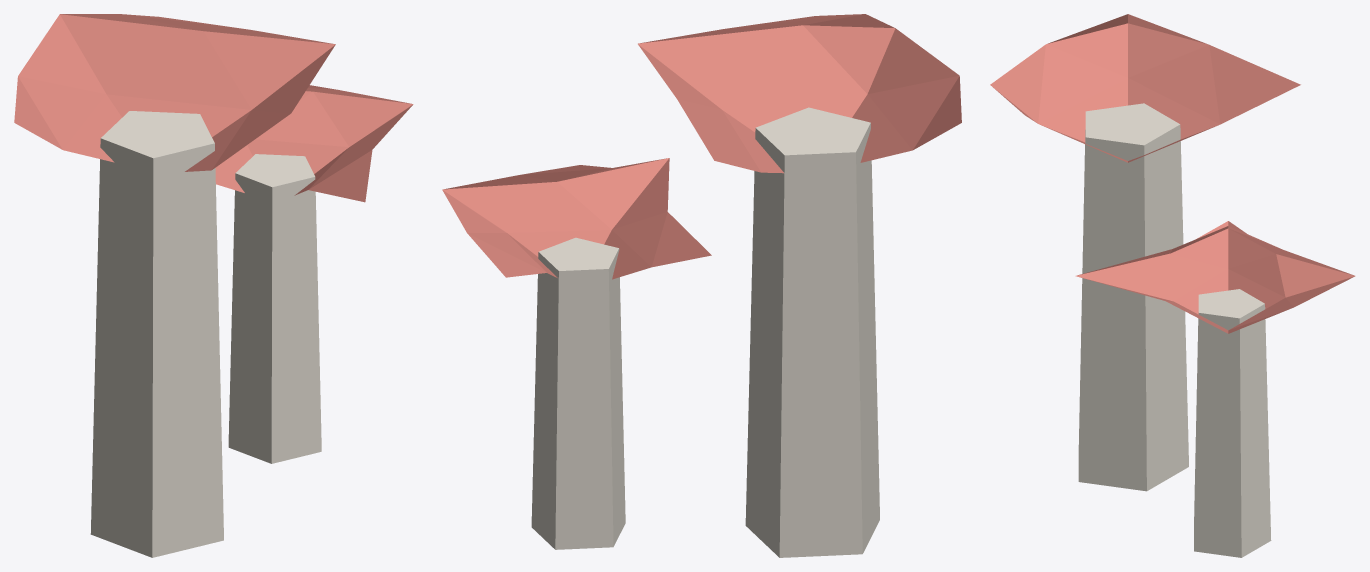
The model's file is mushroom_v44.glb.
3 renders of one model, left to right at view 1: azimuth 30°, elevation 25°; view 2: azimuth 150°, elevation 25°; view 3: azimuth 270°, elevation 25°, orthographic. The views are drawn at different scales.
Parts seen in each view (by area): view 1: lod0; view 2: lod0; view 3: lod0.
Part boxes in pixels (left/top/right/bottom): lod0: left=14, top=14, right=413, bottom=557; lod0: left=442, top=14, right=961, bottom=557; lod0: left=990, top=14, right=1355, bottom=557.
Size of what is drawn, in the model's own units: 0.3148 by 0.3363 by 0.2518.
